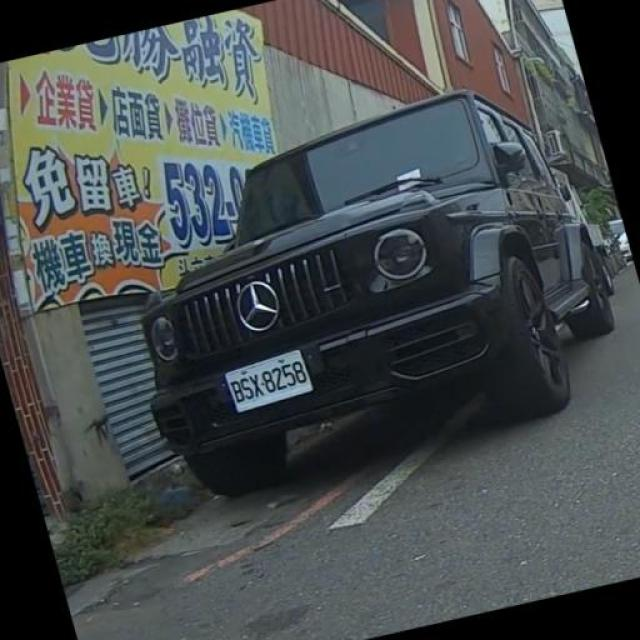Legalparking: (138, 68, 617, 496)
